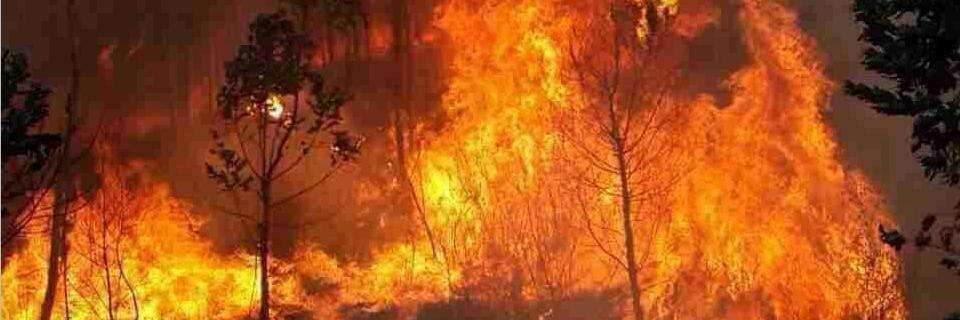fire: (8, 1, 913, 316)
